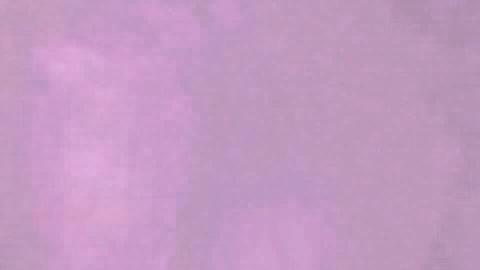tomato: (15, 113, 221, 268)
